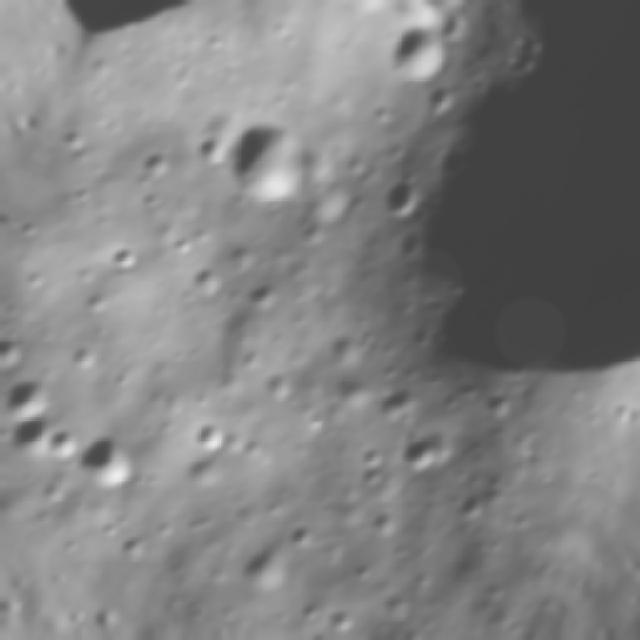crater: (208, 99, 327, 224), (66, 415, 160, 503), (380, 16, 458, 93), (230, 533, 304, 605), (365, 163, 433, 237), (0, 397, 65, 468), (382, 422, 446, 482), (0, 366, 55, 428), (180, 258, 234, 310), (130, 138, 182, 190), (318, 323, 372, 372), (44, 412, 90, 468), (187, 414, 236, 460), (96, 236, 142, 282), (239, 272, 287, 316), (475, 384, 522, 428), (446, 488, 488, 530), (425, 78, 461, 117)
